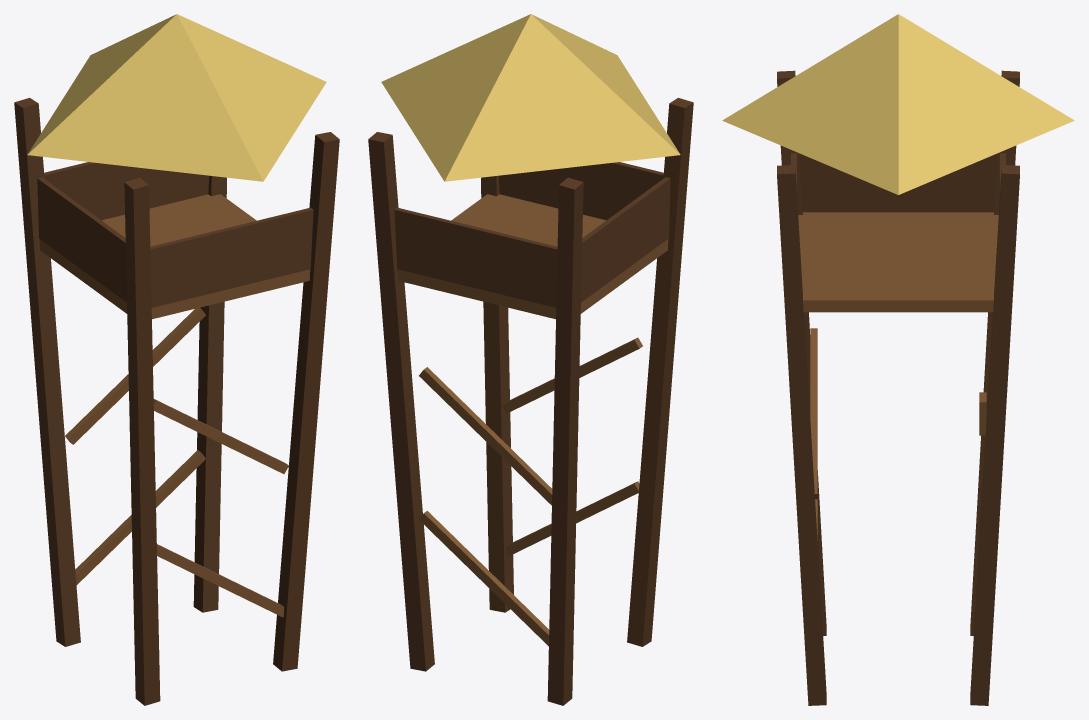
File: SM_Watchtower.fbx
The picture shows the model from 3 angles, left to right: view 1: azimuth 30°, elevation 25°; view 2: azimuth 150°, elevation 25°; view 3: azimuth 270°, elevation 25°; orthographic projection. The views are drawn at different scales.
Visible parts, largest first — view 1: SM_Watchtower; view 2: SM_Watchtower; view 3: SM_Watchtower.
Boxes of the visible parts, box(x1,y1,x2,y2) form: SM_Watchtower: box(14, 14, 339, 705); SM_Watchtower: box(368, 14, 693, 705); SM_Watchtower: box(722, 14, 1074, 705).
Bounding box in the file's own units: 4.8 × 4.8 × 9.81.
